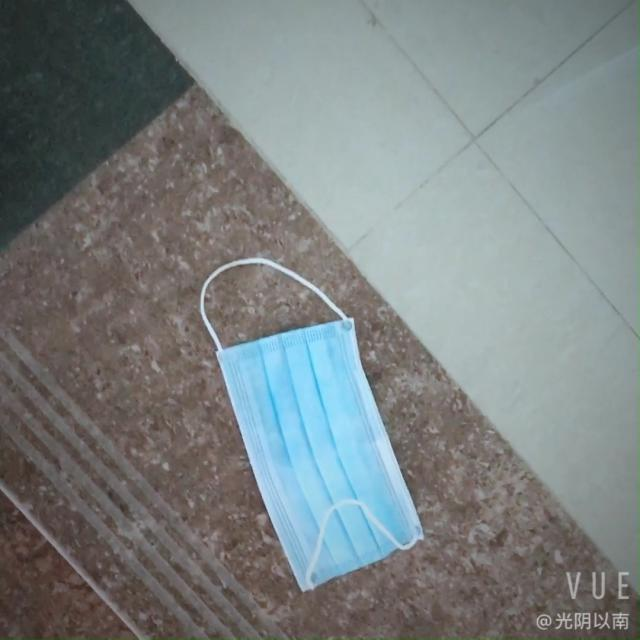face mask: (214, 318, 408, 580)
